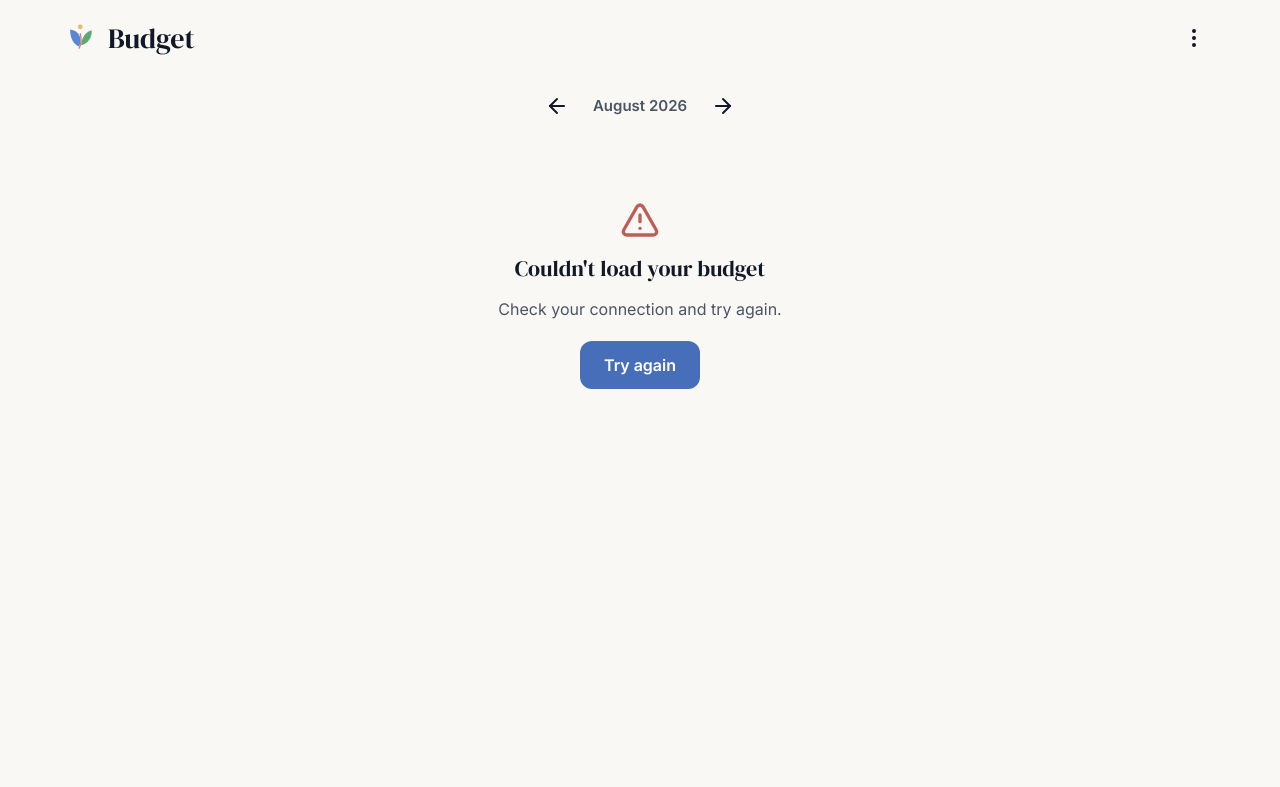
Test: BudgetPage › keeps the authenticated shell and offers retry on failure (D-BUD-F5)
Expected: the heading "Couldn't load your budget" is shown, left=515, top=252, right=765, bottom=285
Expected: the heading "Budget" is shown, left=108, top=19, right=195, bottom=57
Click the button "Try again" at (640, 365), box left=580, top=341, right=700, bottom=389
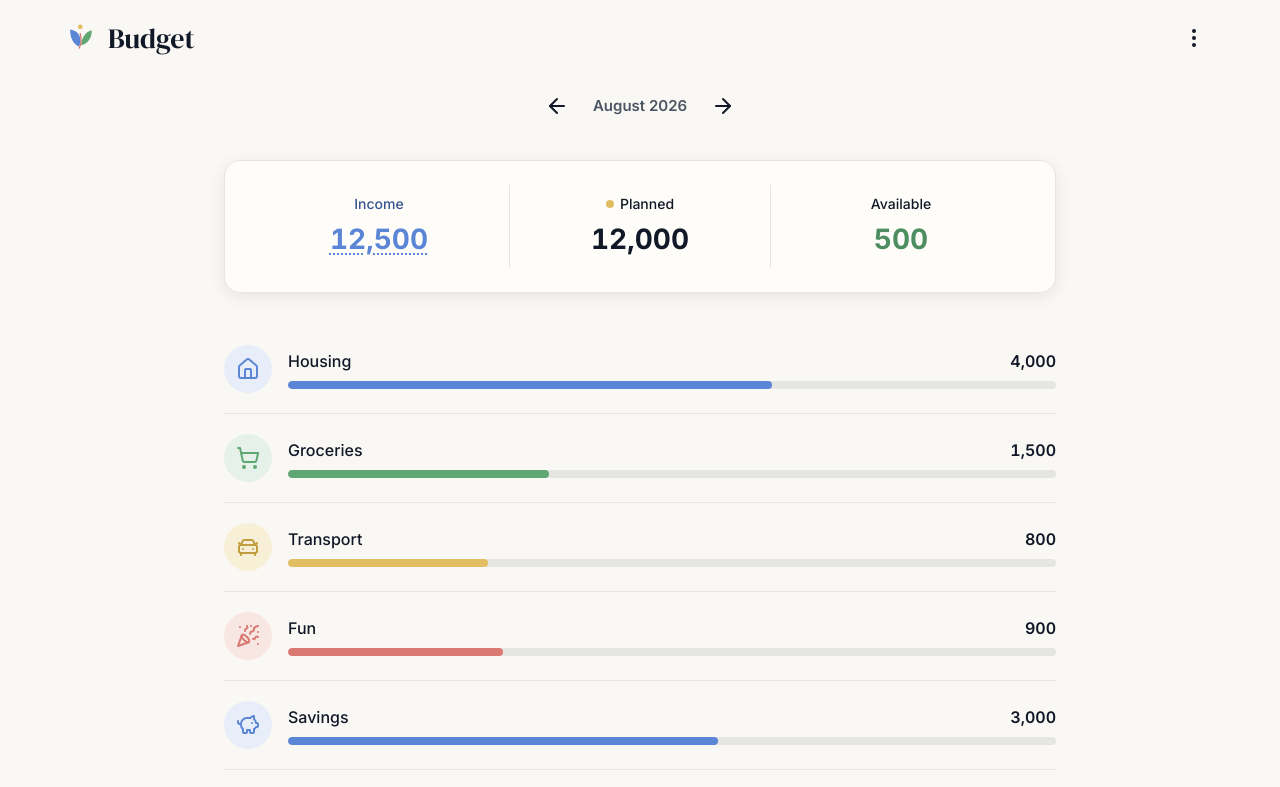
Expected: the button "12,500" is shown, left=322, top=214, right=436, bottom=264
